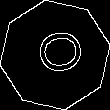O_W: (27, 29, 83, 81)
